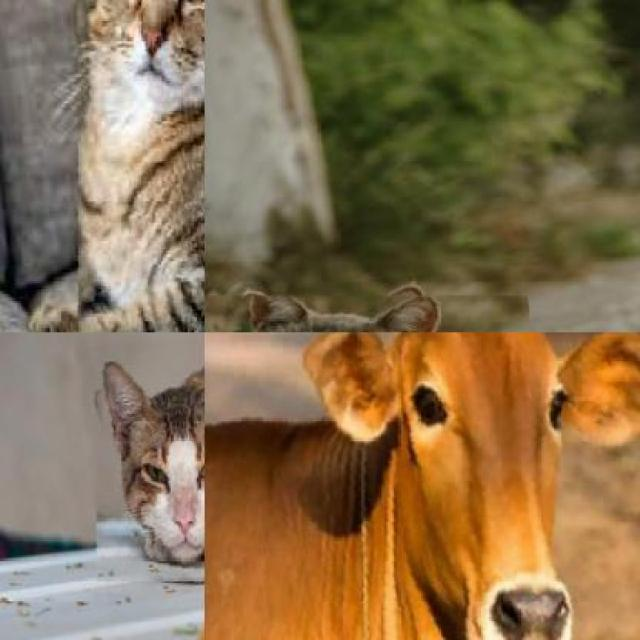cat: (26, 0, 204, 332), (76, 332, 204, 623)
cow: (204, 332, 640, 639)
